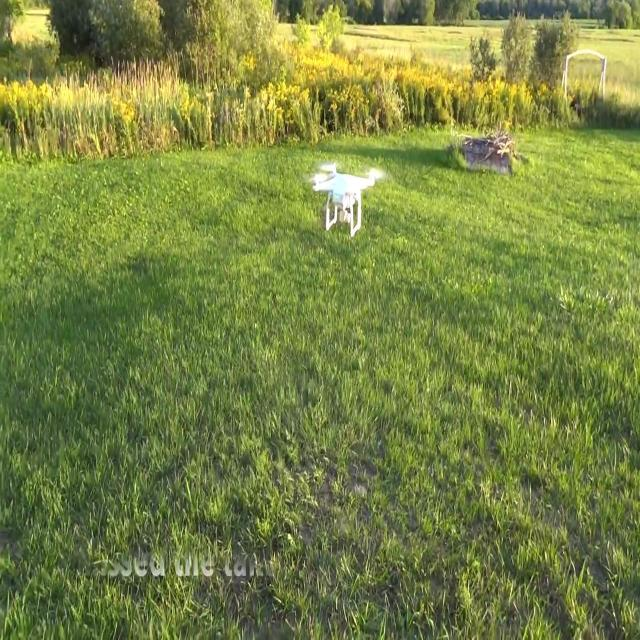drone: (312, 158, 378, 235)
